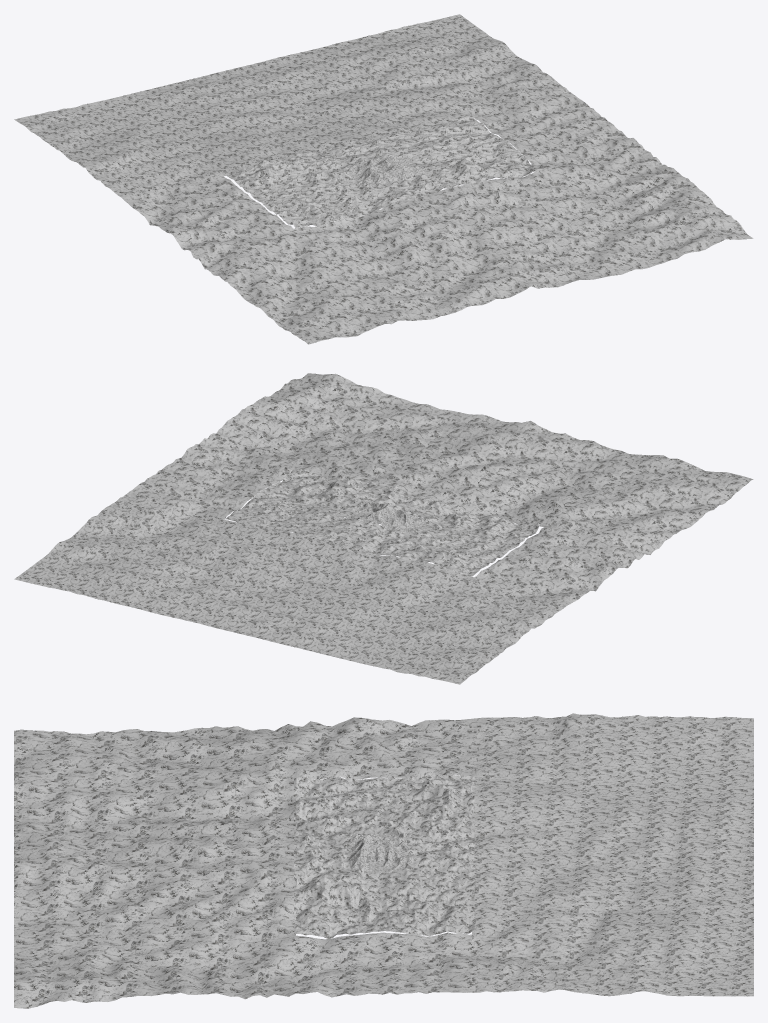
The model's file is mountains.glb.
3 renders of one model, top to bottom at view 1: azimuth 30°, elevation 25°; view 2: azimuth 150°, elevation 25°; view 3: azimuth 270°, elevation 25°, orthographic. The views are drawn at different scales.
Visible parts, largest first — view 1: EverestDistant1.HD, EverestMid.HD, EverestPeak.HD; view 2: EverestDistant1.HD, EverestMid.HD, EverestPeak.HD; view 3: EverestDistant1.HD, EverestMid.HD, EverestPeak.HD.
Boxes of the visible parts, x1,y1,x2,y2 form: EverestDistant1.HD: (14, 14, 753, 344); EverestMid.HD: (224, 116, 543, 228); EverestPeak.HD: (344, 154, 427, 188); EverestDistant1.HD: (14, 373, 753, 684); EverestMid.HD: (224, 468, 542, 576); EverestPeak.HD: (343, 501, 428, 534); EverestDistant1.HD: (14, 713, 753, 1008); EverestMid.HD: (294, 774, 474, 938); EverestPeak.HD: (349, 829, 407, 873).
Bounding box in the file's own units: 1689 × 108 × 1930.
3 materials, 3 textured.
